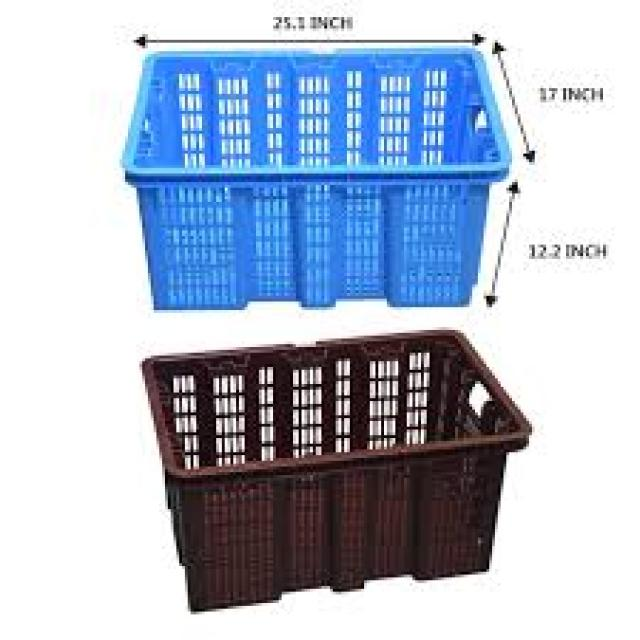basket: (141, 309, 551, 616), (124, 45, 514, 312)
